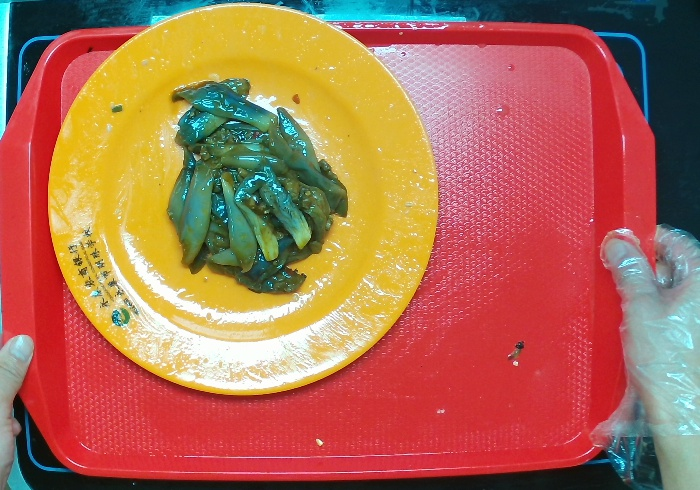YKMZ-Ju_Se_Mian_Pan: (35, 1, 446, 404)
